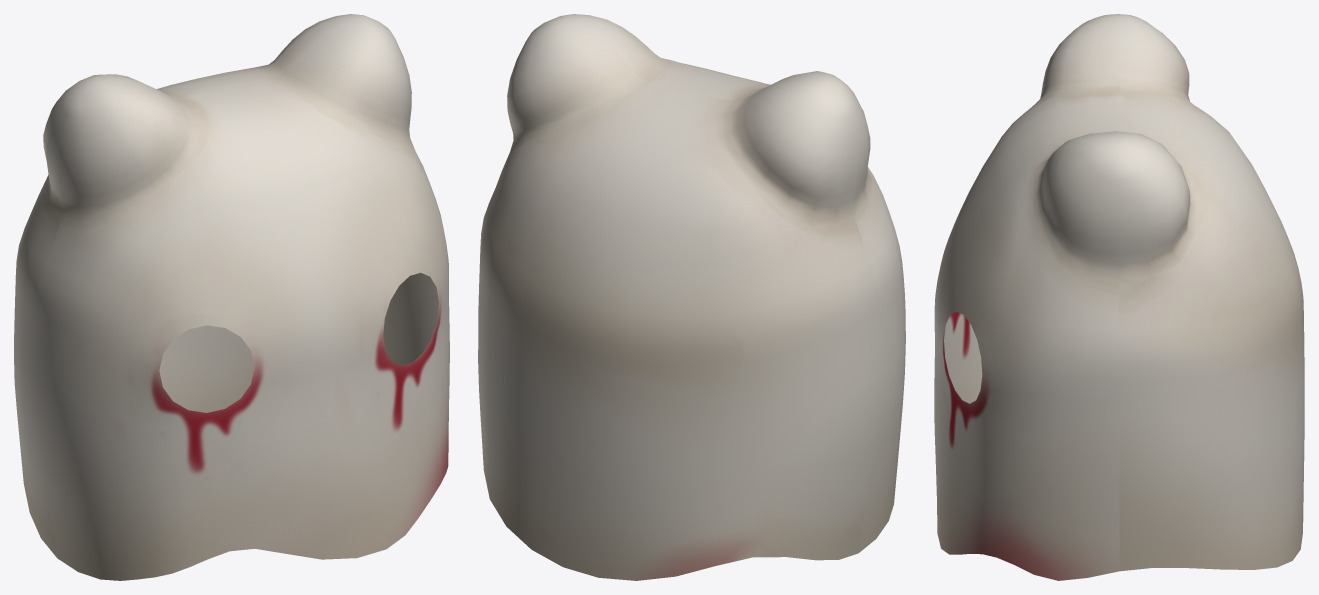
File: ghost5.glb
3 renders of one model, left to right at view 1: azimuth 30°, elevation 25°; view 2: azimuth 150°, elevation 25°; view 3: azimuth 270°, elevation 25°, orthographic. The views are drawn at different scales.
Parts seen in each view (by area): view 1: MASKK; view 2: MASKK; view 3: MASKK.
Boxes of the visible parts, box(x1,y1,x2,y2) form: MASKK: box(14, 14, 449, 580); MASKK: box(478, 14, 905, 580); MASKK: box(934, 14, 1304, 580).
Bounding box in the file's own units: 2.49 × 2.89 × 2.13.
Materials: 1 (1 with a texture image).
